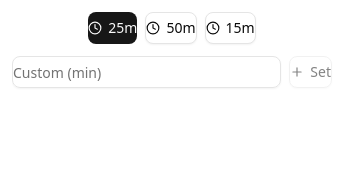
Test: PresetsSection Component – Custom Time edge cases › clears input after valid submission
In the number field with test id "custom-duration-input": [147, 72] box [12, 56, 281, 88], type "10"
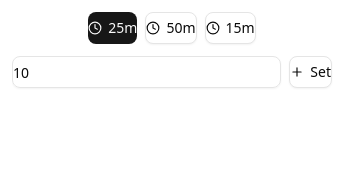
Click the button with test id "custom-duration-submit": [311, 72] box [289, 56, 332, 88]
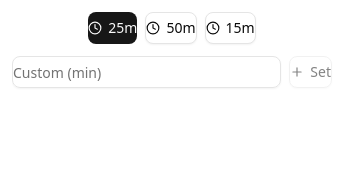
Now the number field with test id "custom-duration-input" is not empty, box [12, 56, 281, 88]
